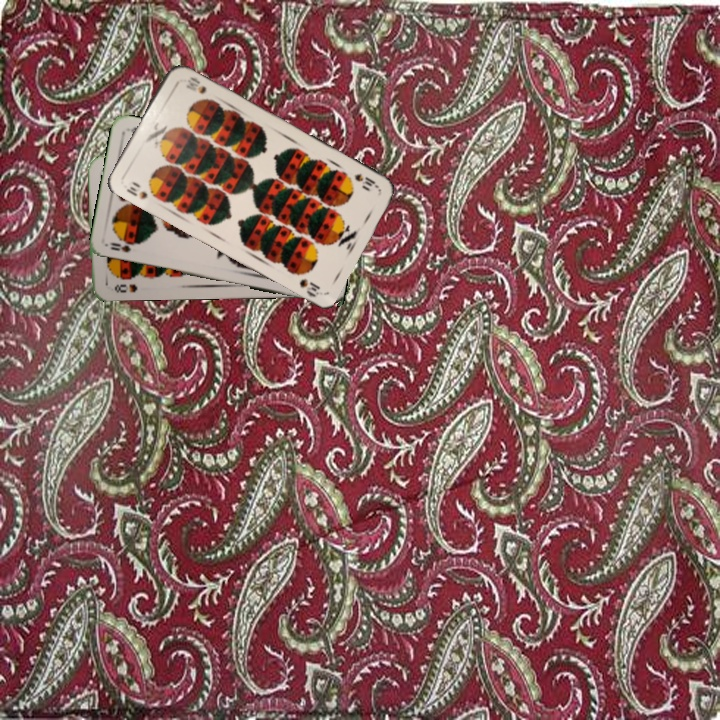S10: (350, 169, 381, 192), (122, 177, 150, 202)
S8: (110, 280, 140, 295)
SO: (107, 238, 133, 255)
